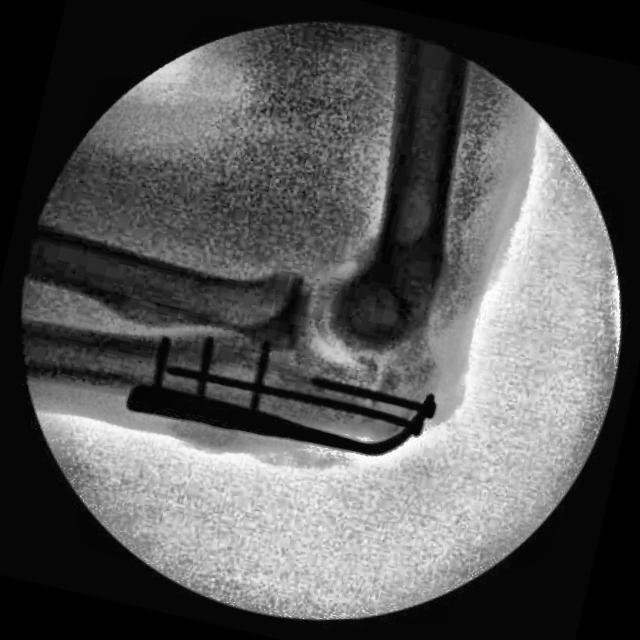elbow positive: (325, 337, 438, 434)
